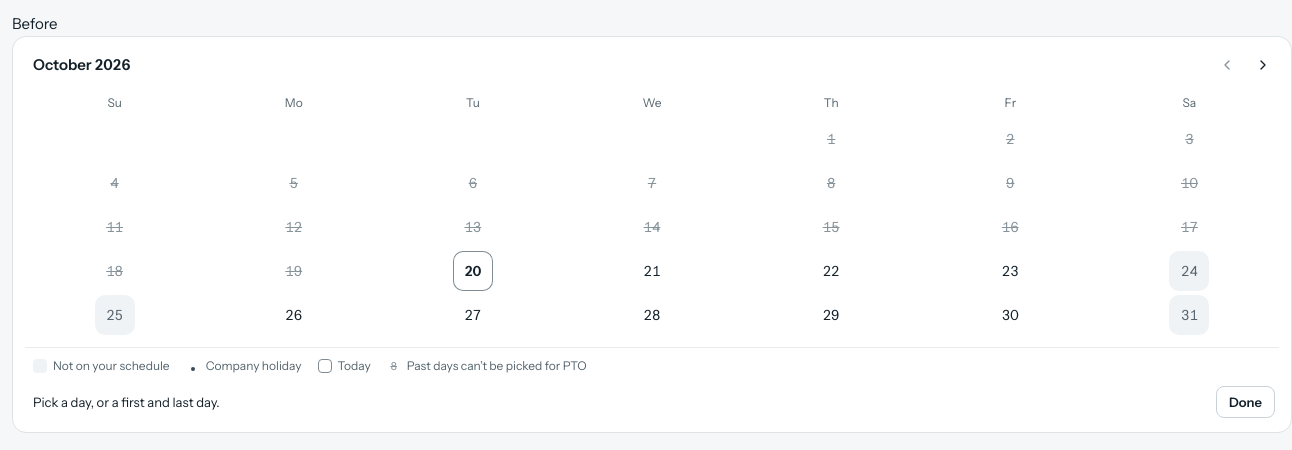
Test: DatePicker choosing days › makes the first click a range of one day, and says to pick the last
The width and height of the screenshot is (1292, 450).
Click the button "23" at (1010, 271), box [990,251,1030,291]
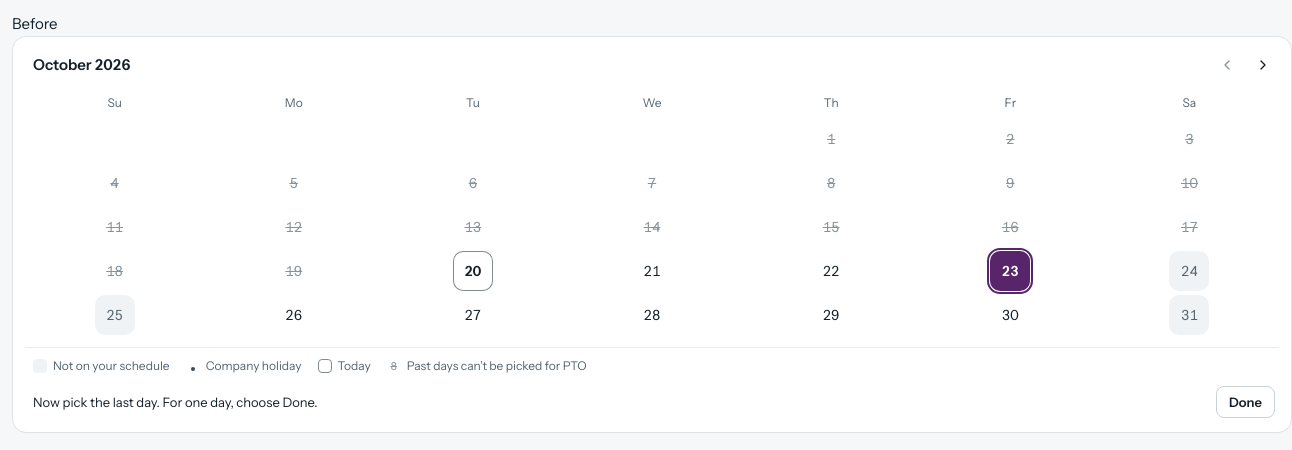
Expected: the text "Now pick the last day. For one day, choose Done." is shown, [33,392,318,412]
